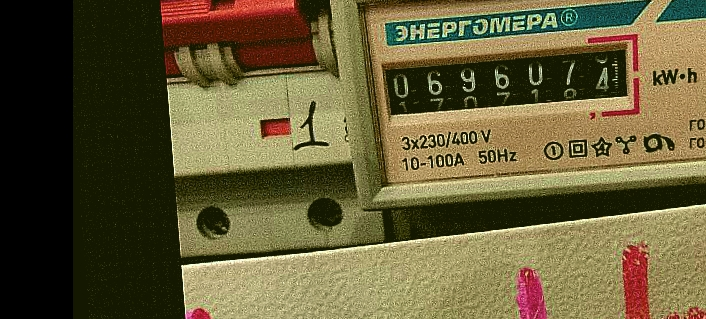0: (390, 70, 413, 99), (526, 56, 547, 86), (426, 67, 445, 94)
4: (593, 64, 612, 93)
6: (492, 59, 512, 90)
7: (559, 54, 580, 85)
9: (459, 63, 479, 93)
screen: (367, 28, 647, 134)
